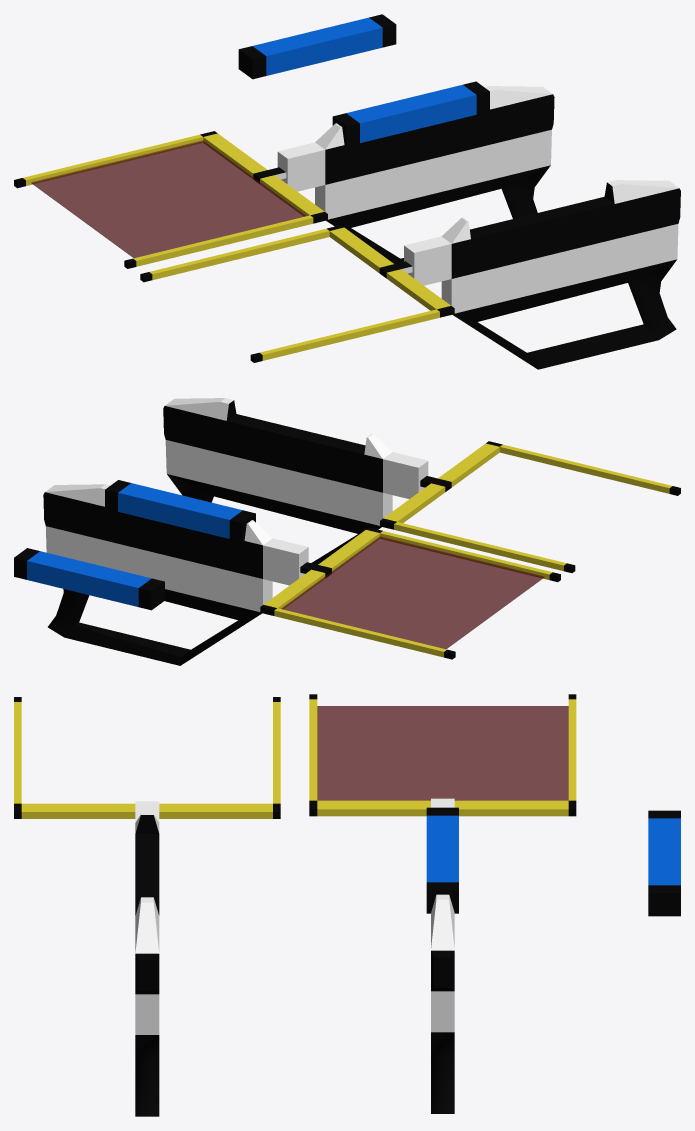
Rendered from Antibuggun.fbx.
3 views of the same model, one above another, from view 1: azimuth 30°, elevation 25°; view 2: azimuth 150°, elevation 25°; view 3: azimuth 270°, elevation 25° (orthographic). The views are drawn at different scales.
Visible parts, largest first — view 1: AntiBug_Gun, AntiBug_WMag, VFX, Anti_Bug_Mag; view 2: AntiBug_WMag, AntiBug_Gun, VFX, Anti_Bug_Mag; view 3: VFX, AntiBug_WMag, AntiBug_Gun, Anti_Bug_Mag.
Boxes of the visible parts, <box> form: AntiBug_Gun: <box>140,180,680,369</box>; AntiBug_WMag: <box>14,81,554,268</box>; VFX: <box>31,140,305,258</box>; Anti_Bug_Mag: <box>238,14,396,79</box>; AntiBug_WMag: <box>43,480,560,665</box>; AntiBug_Gun: <box>163,398,680,572</box>; VFX: <box>281,536,544,649</box>; Anti_Bug_Mag: <box>14,548,164,610</box>; VFX: <box>317,706,568,800</box>; AntiBug_WMag: <box>309,694,576,1113</box>; AntiBug_Gun: <box>14,697,280,1116</box>; Anti_Bug_Mag: <box>648,810,680,916</box>.
Bounding box in the file's own units: 157 × 52.57 × 160.
